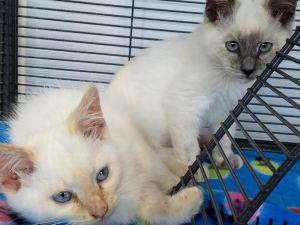siamese: (202, 1, 298, 89)
